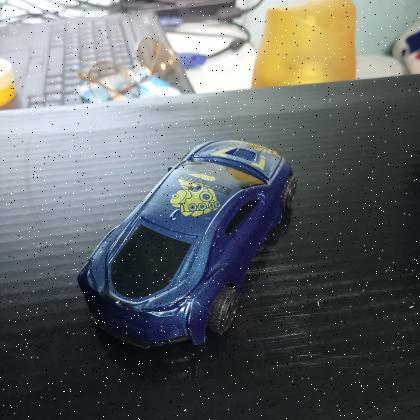Car: (74, 136, 300, 356)
